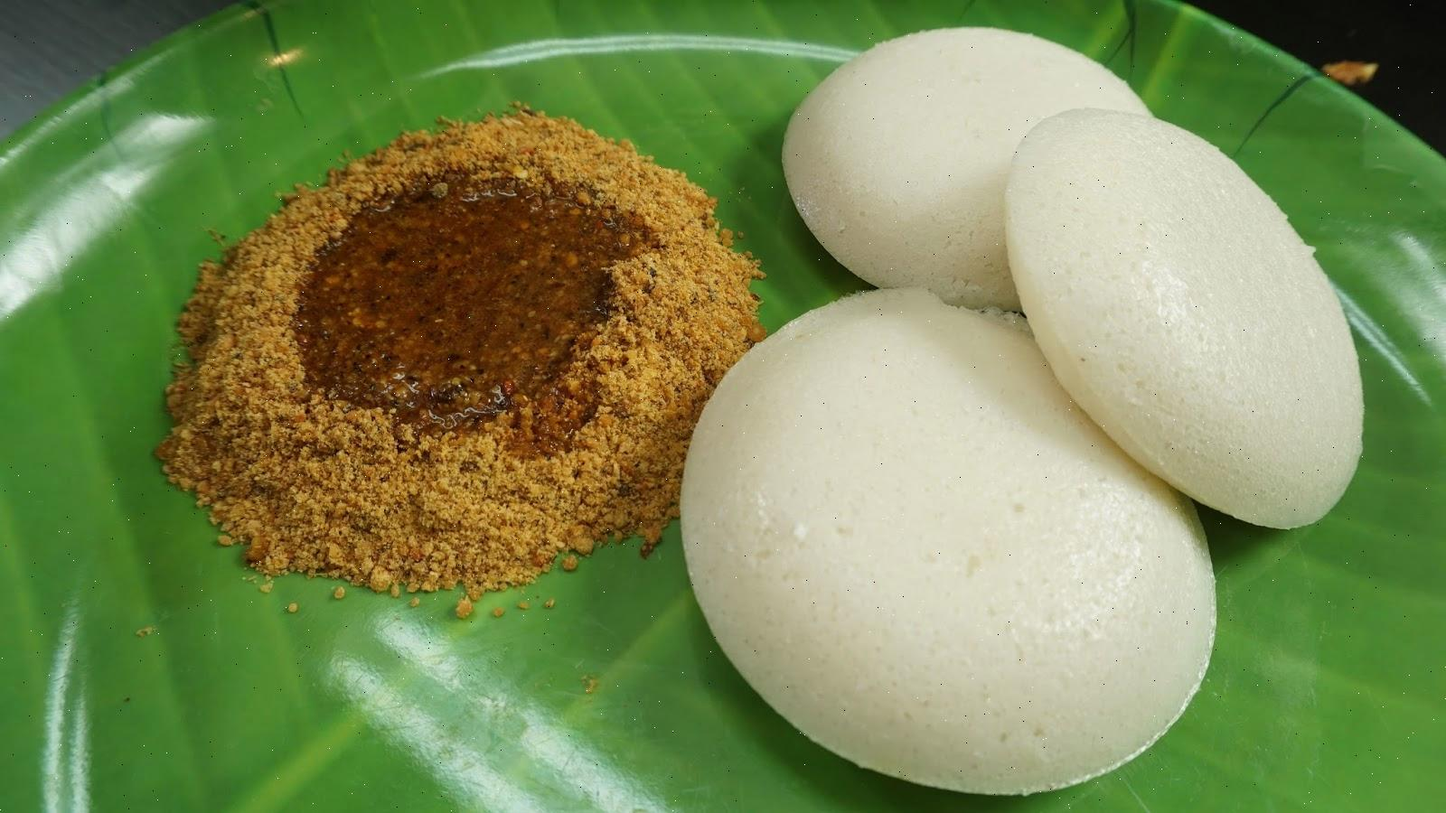idli: (746, 41, 1312, 771)
